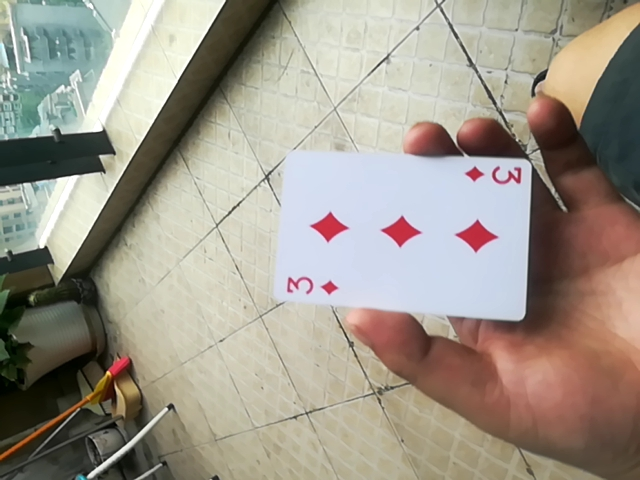fk 3: (267, 148, 539, 319)
